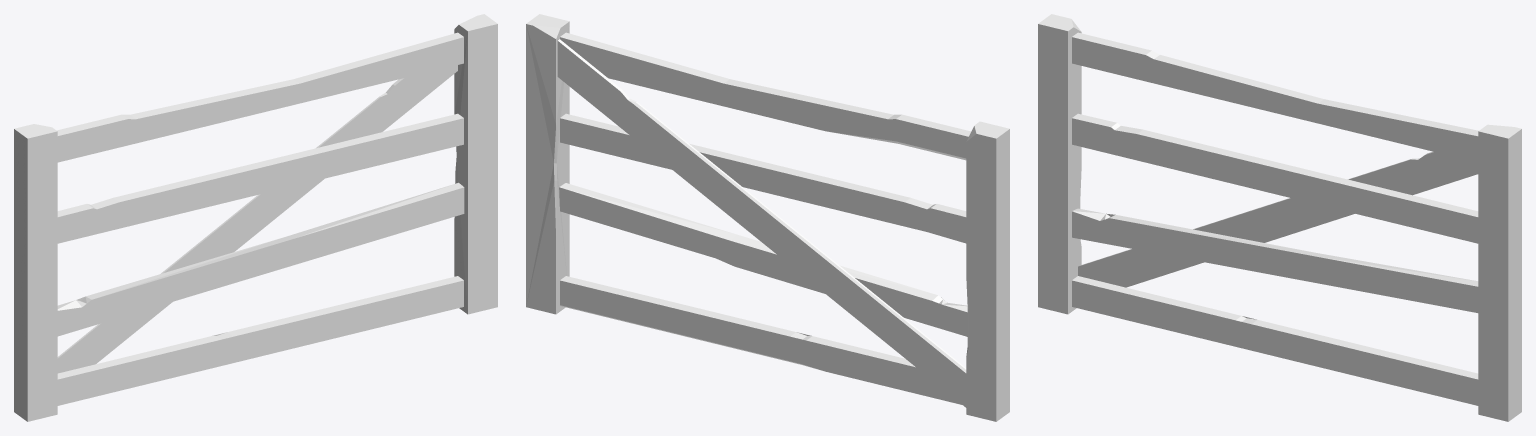
The model's file is Bld_01_Fence_Wood_Gate_Single_Long_Worned_01.glb.
3 renders of one model, left to right at view 1: azimuth 30°, elevation 25°; view 2: azimuth 150°, elevation 25°; view 3: azimuth 330°, elevation 25°, orthographic.
Visible parts, largest first — view 1: Bld_01_Fence_Wood_Gate_Single_Long_Worned_01; view 2: Bld_01_Fence_Wood_Gate_Single_Long_Worned_01; view 3: Bld_01_Fence_Wood_Gate_Single_Long_Worned_01.
Boxes of the visible parts, x1,y1,x2,y2 form: Bld_01_Fence_Wood_Gate_Single_Long_Worned_01: (14,14,497,421); Bld_01_Fence_Wood_Gate_Single_Long_Worned_01: (526,14,1009,421); Bld_01_Fence_Wood_Gate_Single_Long_Worned_01: (1038,14,1521,421).
Size of the model in its own units: 1.8 by 1.04 by 0.0898.
Materials: 1 (1 with a texture image).
